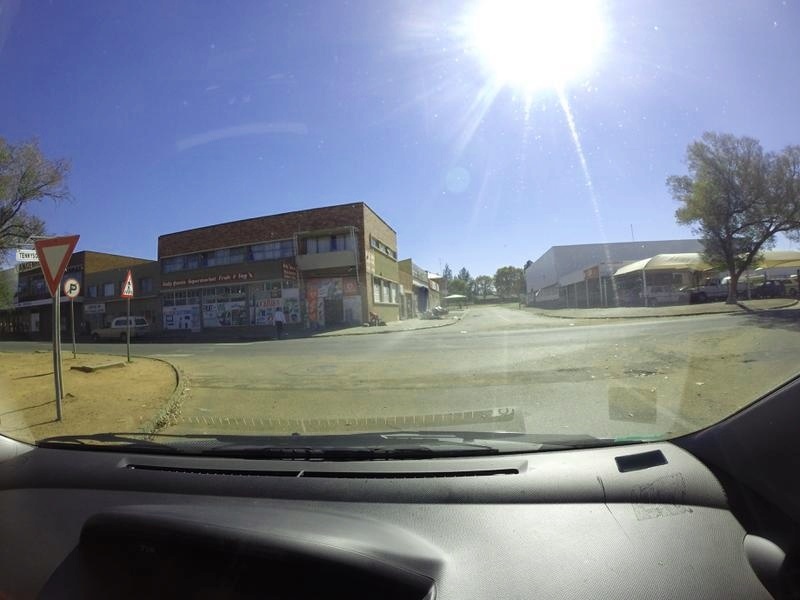pothole: (714, 345, 770, 372), (620, 361, 667, 385), (554, 359, 605, 378)
